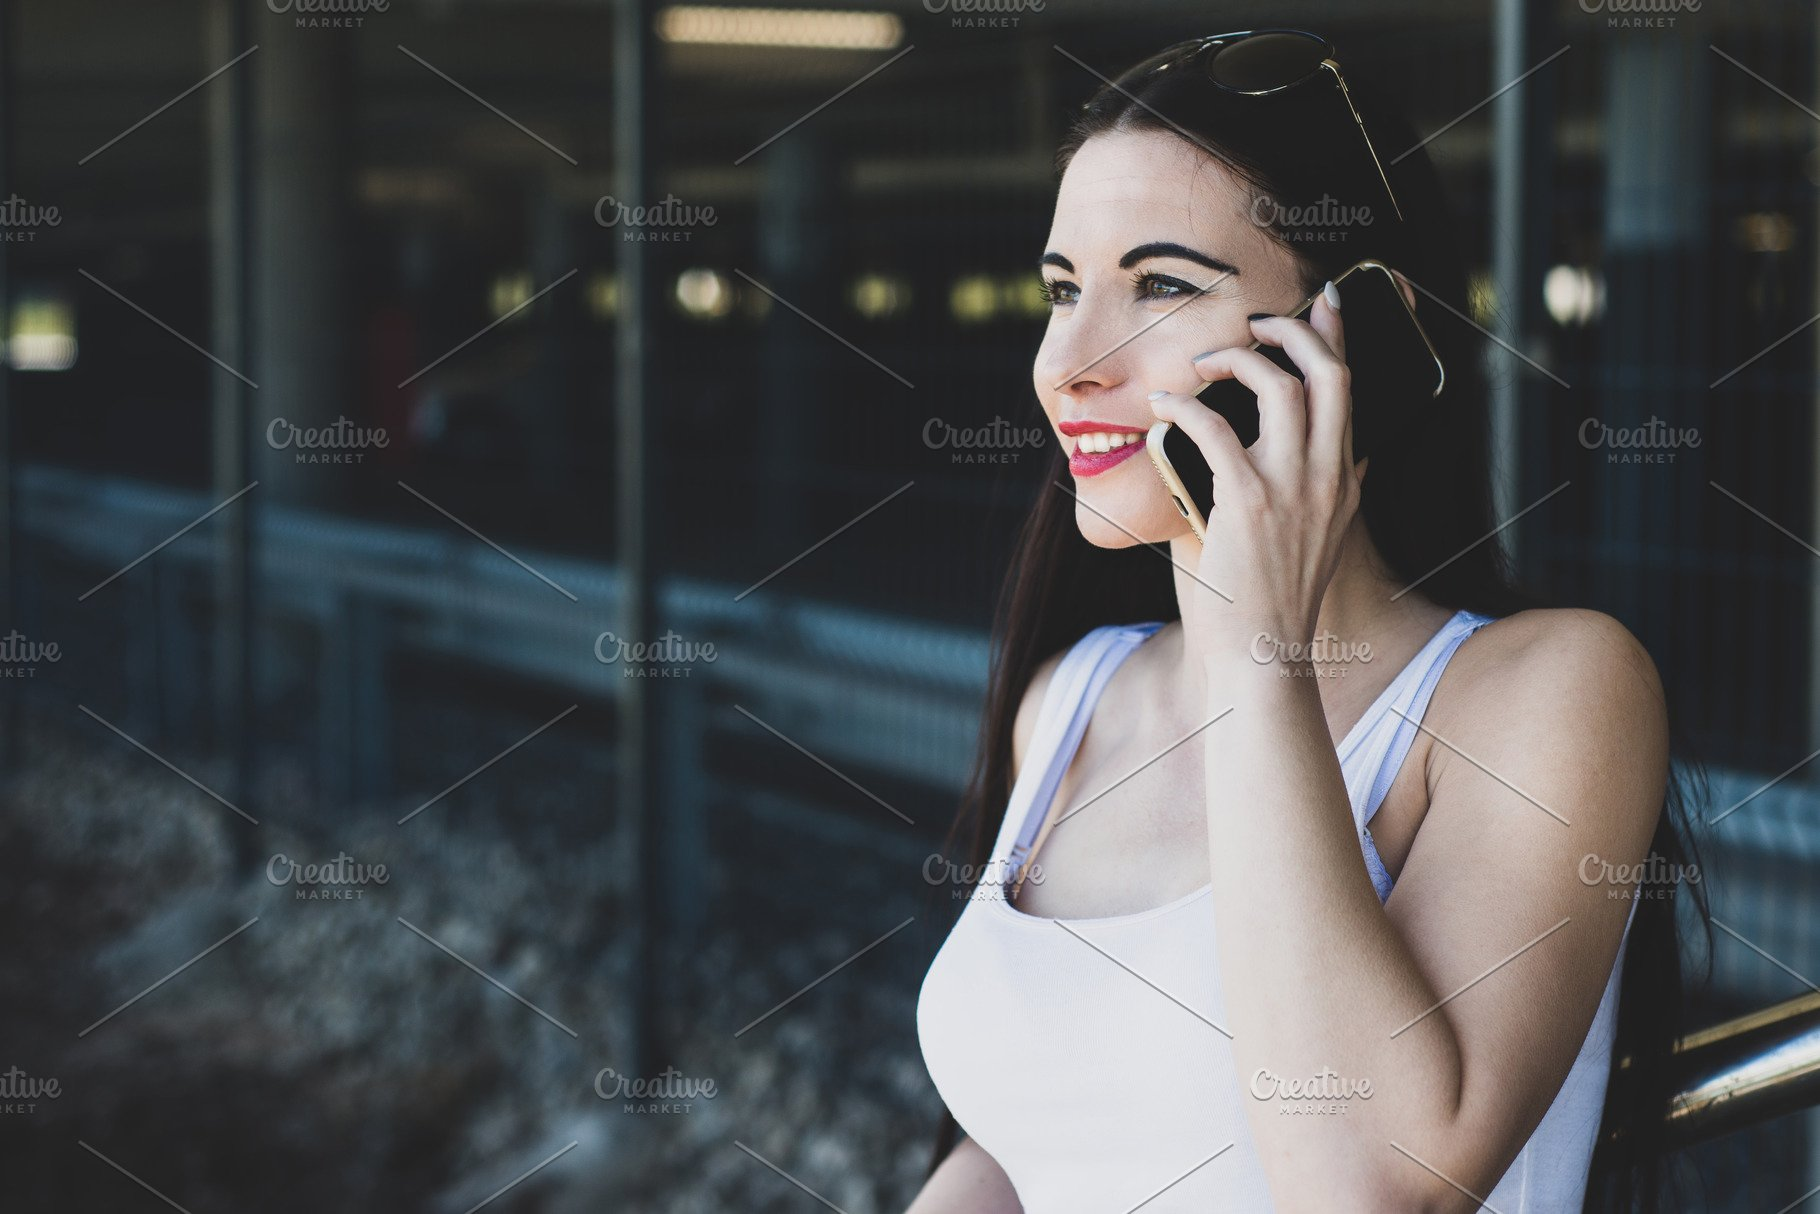phone: (1143, 272, 1381, 581)
talk: (1025, 243, 1391, 616)
